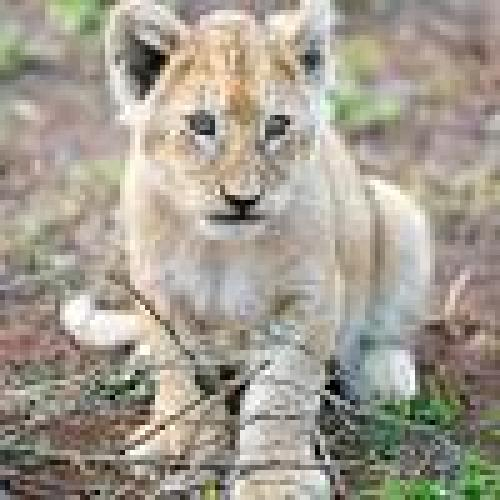lion-endangered: (62, 0, 434, 500)
